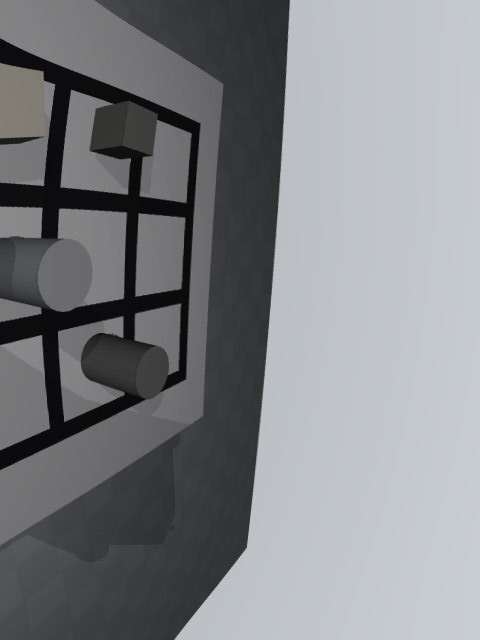can: (0, 237, 93, 312)
cube: (89, 101, 158, 159)
cylinder: (81, 333, 169, 399)
foam: (0, 63, 45, 145)
